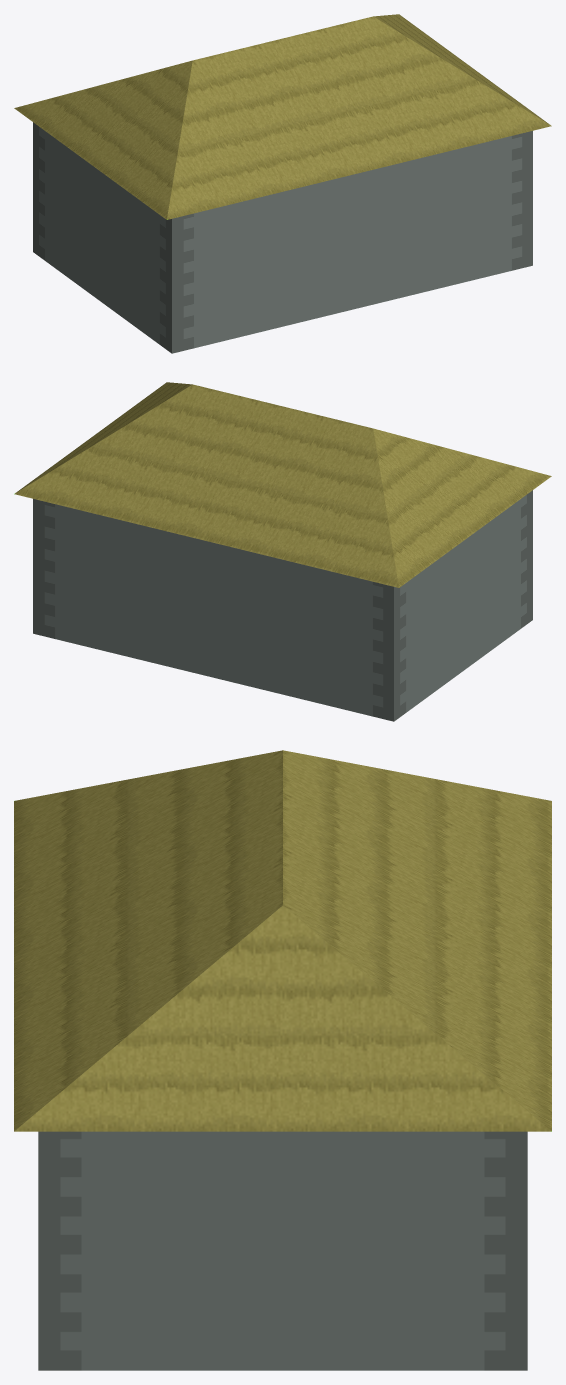
Rendered from house.fbx.
The picture shows the model from 3 angles, top to bottom: view 1: azimuth 30°, elevation 25°; view 2: azimuth 150°, elevation 25°; view 3: azimuth 270°, elevation 25°; orthographic projection. The views are drawn at different scales.
Parts seen in each view (by area): view 1: House; view 2: House; view 3: House.
Boxes of the visible parts, x1=… form: House: x1=14, y1=14, x2=551, y2=353; House: x1=14, y1=382, x2=551, y2=721; House: x1=14, y1=750, x2=551, y2=1370.
Size of the model in its own units: 640 by 350 by 440.
